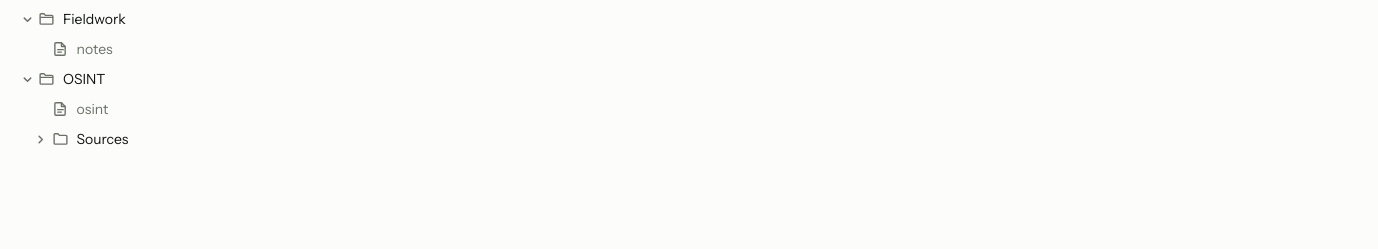
it: publishing a folder as a book › offers it on a folder when the notebook has a repository
The image size is (1378, 249).
Right-click the button "Fieldwork" at (94, 19), box [36,4,1372,33]
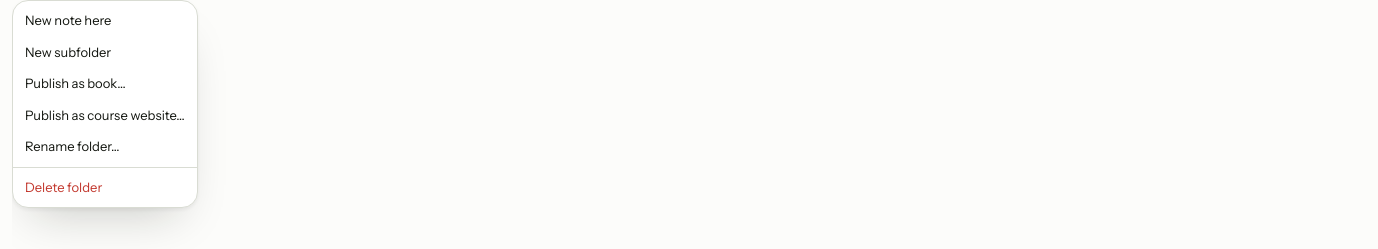
Now the menu item "Publish as book…" is shown, box [13,68,197,100]
